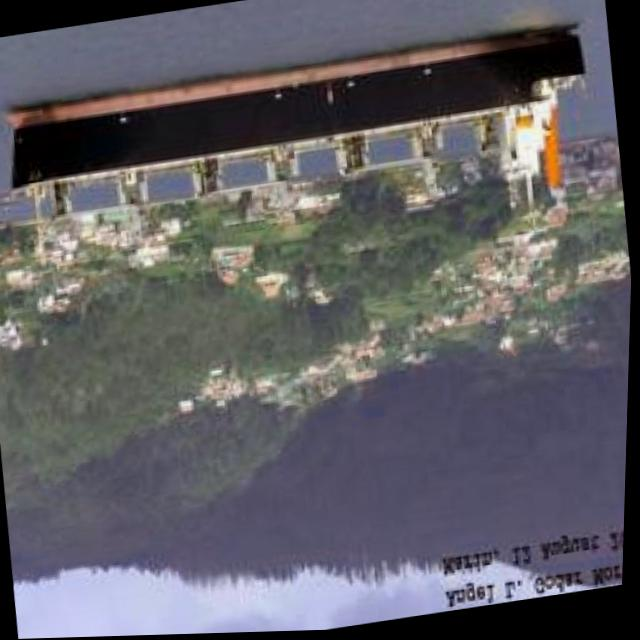ship2: (8, 29, 586, 224)
